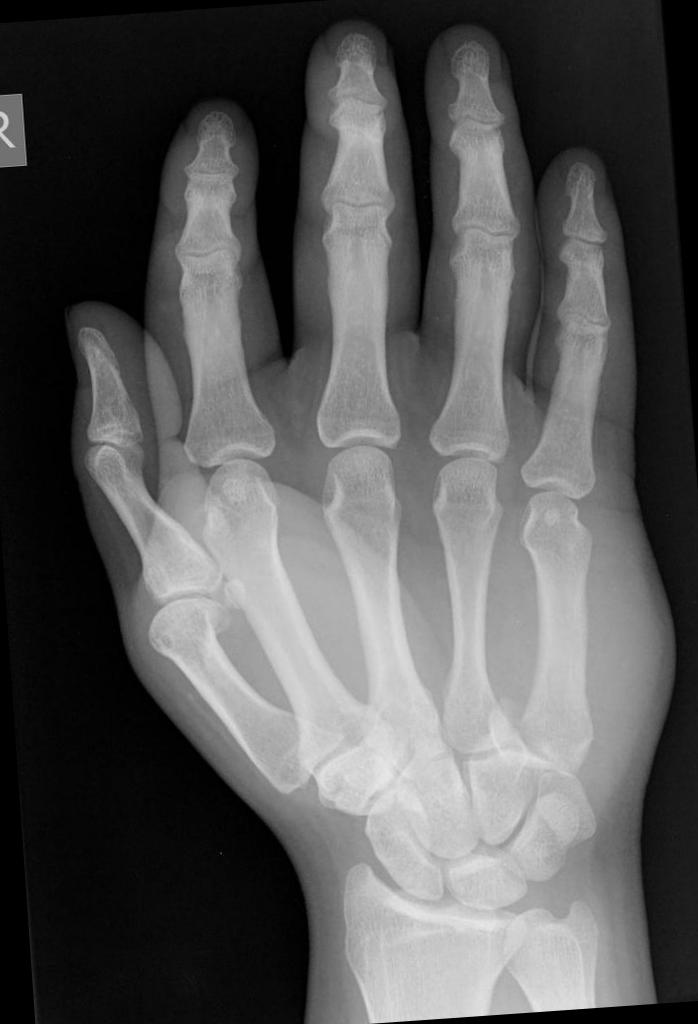fracture: (180, 598, 231, 645)
